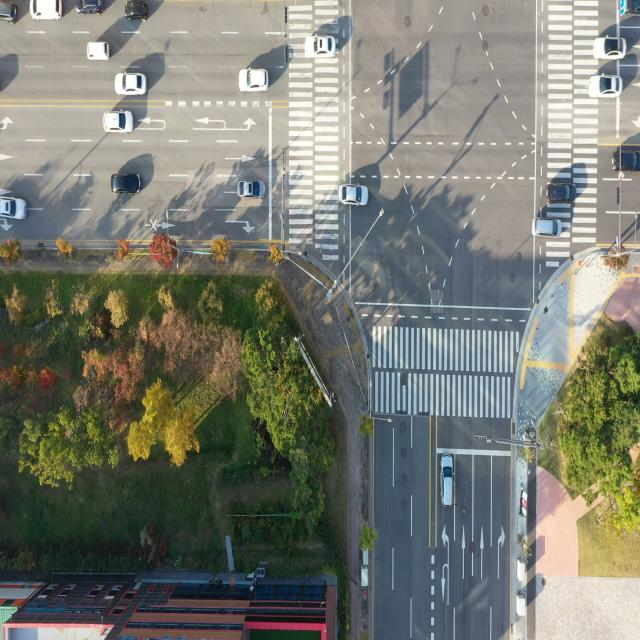car: (306, 35, 341, 62), (588, 74, 624, 100), (115, 67, 146, 97), (110, 171, 140, 200), (547, 179, 577, 208), (442, 455, 456, 509), (533, 214, 564, 238), (29, 0, 62, 22), (104, 110, 132, 134), (239, 69, 267, 92), (340, 185, 368, 208), (614, 146, 640, 170), (0, 198, 24, 221), (87, 41, 111, 62), (125, 0, 150, 18), (240, 180, 263, 199), (79, 0, 105, 16), (0, 0, 19, 21), (629, 31, 629, 32)
